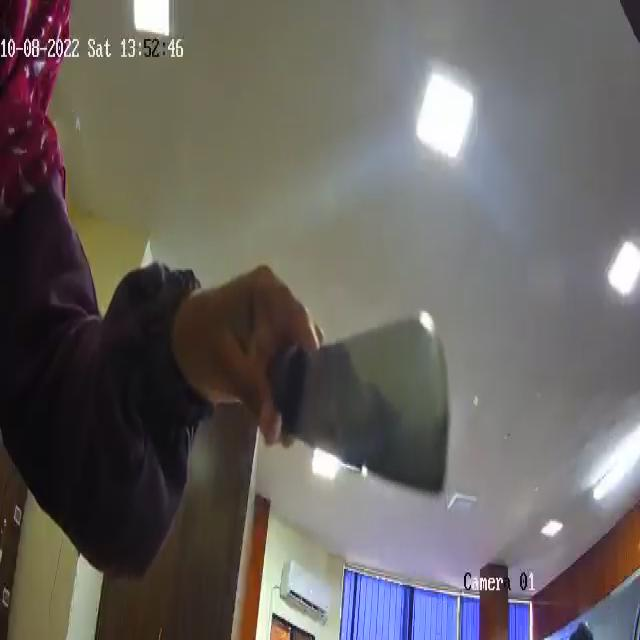Knife: (245, 282, 453, 524)
